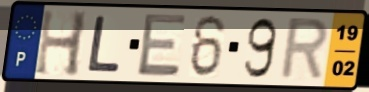6: (188, 14, 228, 80)
9: (242, 16, 280, 80)
E: (135, 12, 189, 79)
H: (32, 7, 90, 79)
L: (84, 14, 122, 75)
R: (276, 16, 332, 83)
